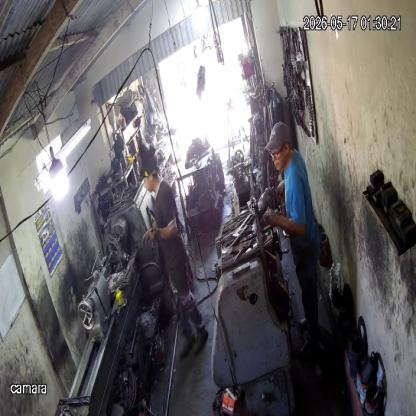lentes: (269, 147, 285, 162)
